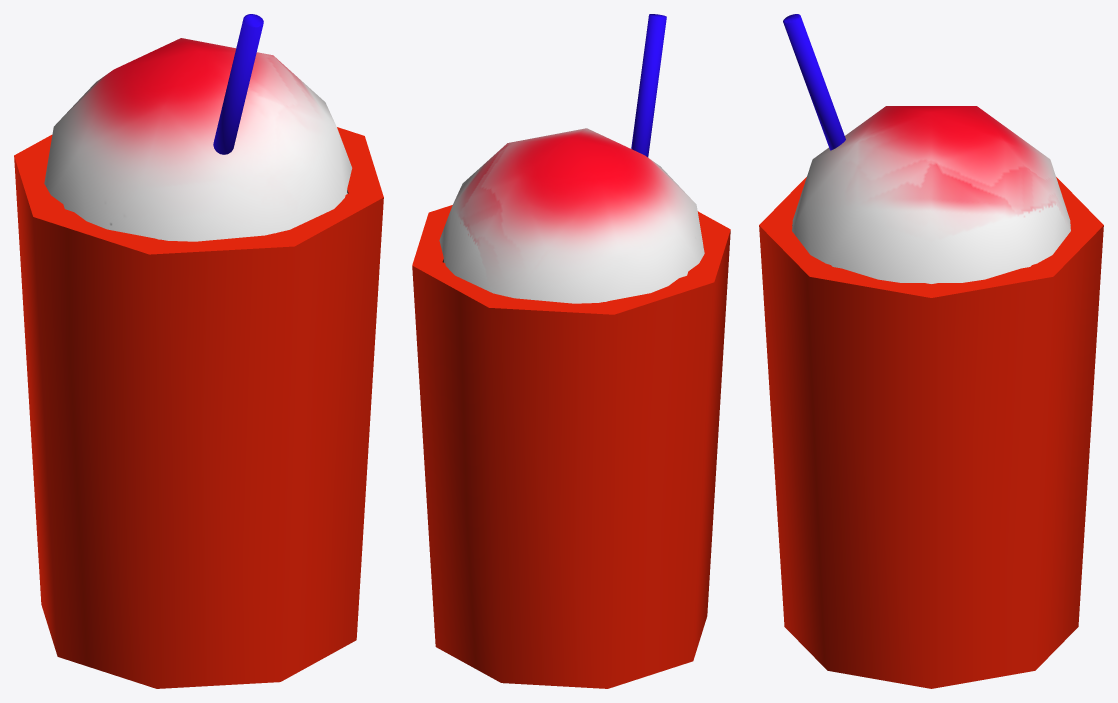
Rendered from terremotoi.fbx.
3 renders of one model, left to right at view 1: azimuth 30°, elevation 25°; view 2: azimuth 150°, elevation 25°; view 3: azimuth 270°, elevation 25°, orthographic. The views are drawn at different scales.
Parts seen in each view (by area): view 1: VASO; view 2: VASO; view 3: VASO.
Boxes of the visible parts, x1,y1,x2,y2 form: VASO: (14,14,383,688); VASO: (412,14,730,688); VASO: (759,14,1103,688).
Bounding box in the file's own units: 235 × 451 × 235.
